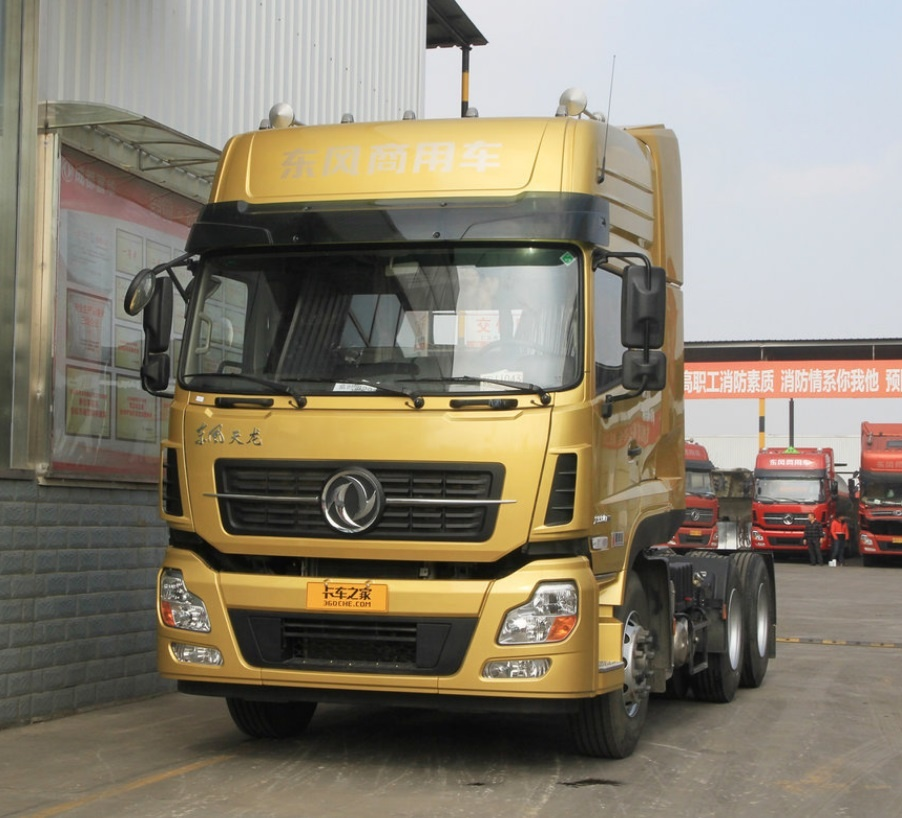heavy truck: (165, 101, 775, 728), (730, 442, 847, 565)
